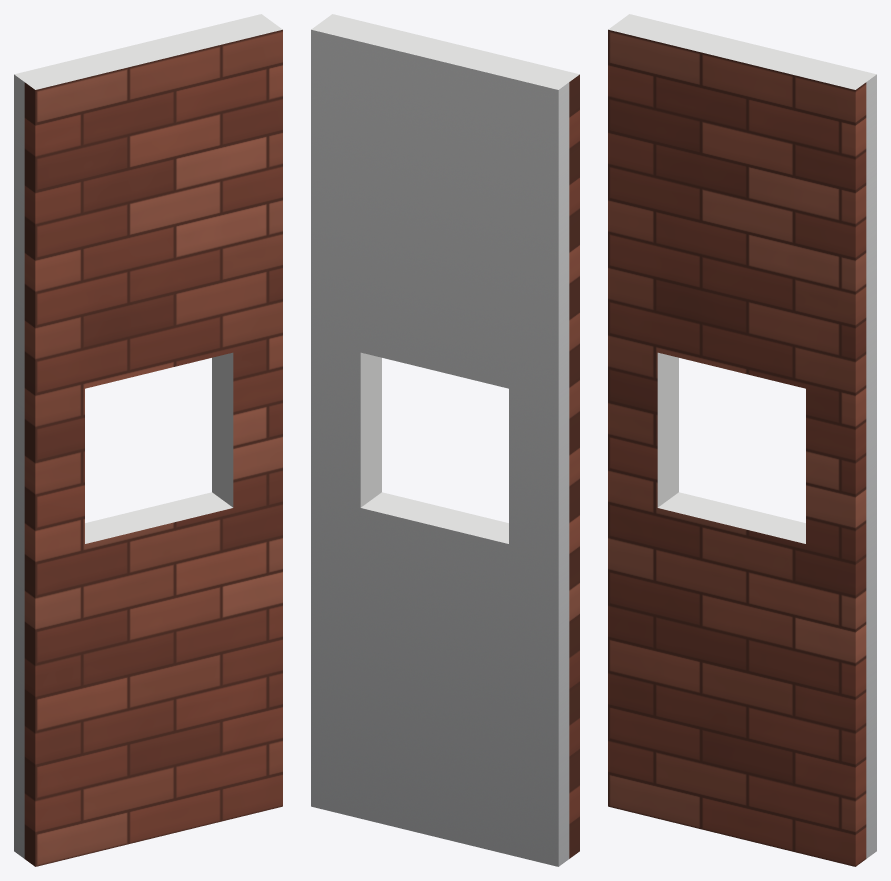
File: janela_quadrada_1m.glb
3 views of the same model, side by side, from view 1: azimuth 30°, elevation 25°; view 2: azimuth 150°, elevation 25°; view 3: azimuth 330°, elevation 25° (orthographic).
Visible parts, largest first — view 1: janela_quadrada_1m; view 2: janela_quadrada_1m; view 3: janela_quadrada_1m.
Part boxes in pixels (bbox=[...]): janela_quadrada_1m: bbox=[14, 14, 282, 866]; janela_quadrada_1m: bbox=[311, 14, 579, 866]; janela_quadrada_1m: bbox=[608, 14, 876, 866].
Size of the model in its own units: 1 by 3 by 0.15.
Materials: 3 (2 with a texture image).
